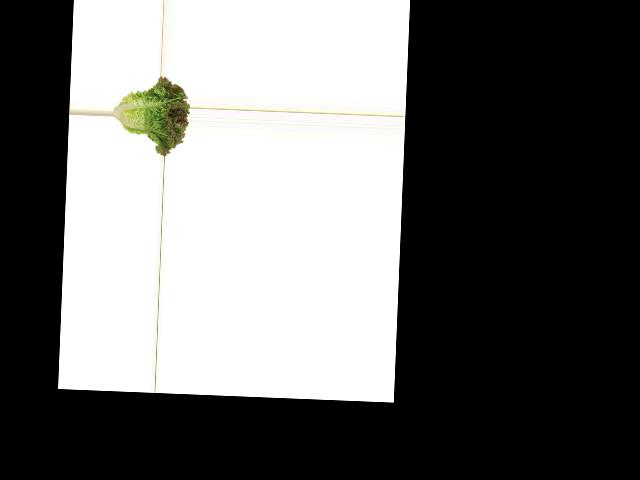lettuce: (111, 75, 190, 157)
